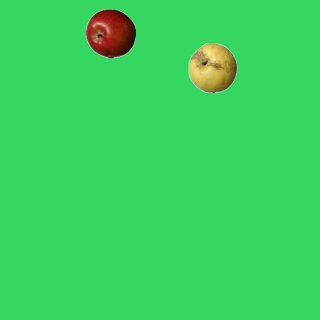Apple Braeburn: (85, 8, 135, 58)
Apple Golden 1: (187, 42, 237, 92)
